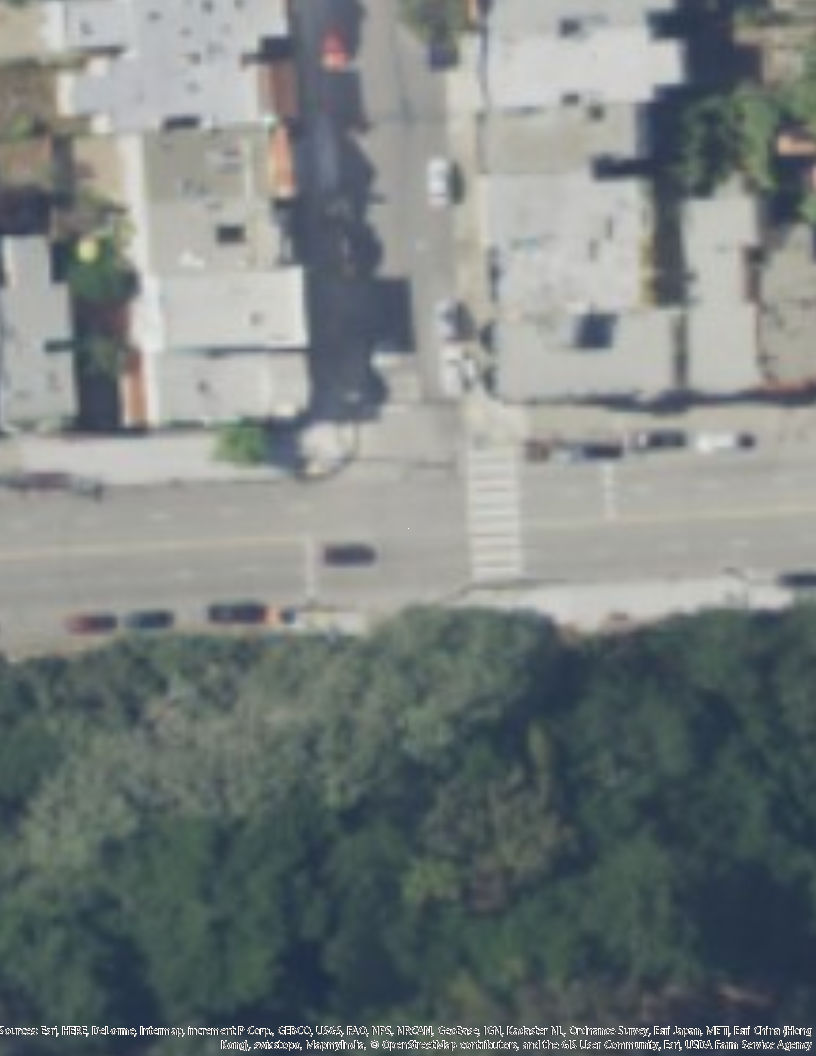zebracross: (466, 448, 524, 580)
